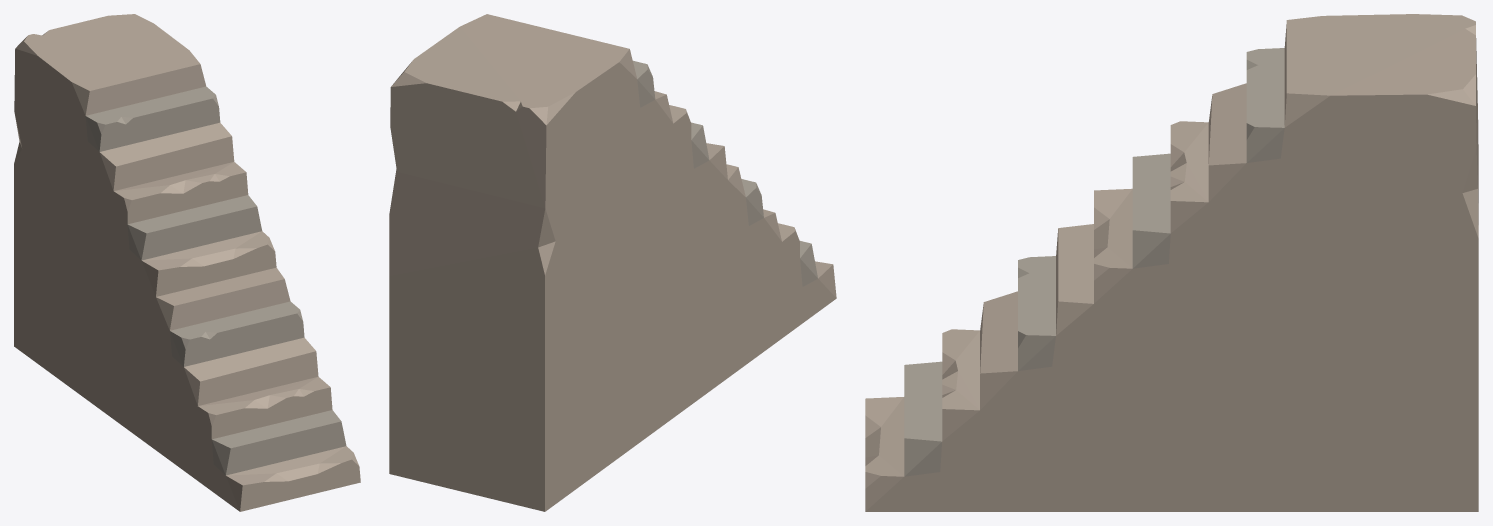
Rendered from SM_Bld_Village_Stairs_03.glb.
The picture shows the model from 3 angles, left to right: view 1: azimuth 30°, elevation 25°; view 2: azimuth 150°, elevation 25°; view 3: azimuth 270°, elevation 25°; orthographic projection. The views are drawn at different scales.
Visible parts, largest first — view 1: SM_Bld_Village_Stairs_03; view 2: SM_Bld_Village_Stairs_03; view 3: SM_Bld_Village_Stairs_03.
Boxes of the visible parts, x1=… form: SM_Bld_Village_Stairs_03: x1=14, y1=14, x2=360, y2=511; SM_Bld_Village_Stairs_03: x1=389, y1=14, x2=836, y2=511; SM_Bld_Village_Stairs_03: x1=865, y1=14, x2=1478, y2=511.
Bounding box in the file's own units: 1.32 × 3.24 × 4.29.
Materials: 1 (1 with a texture image).
